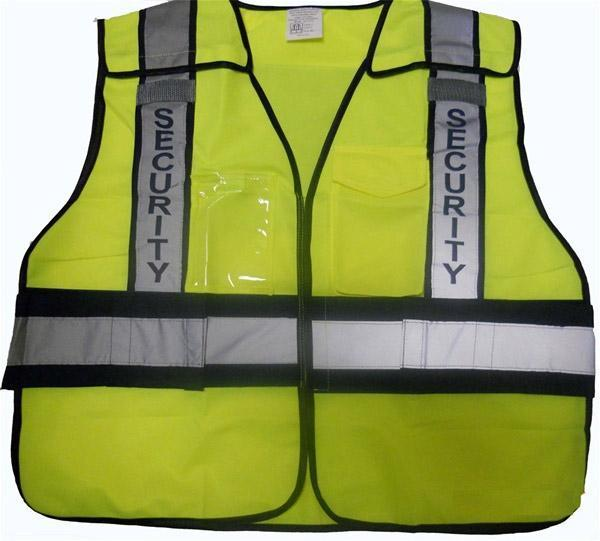vest: (0, 0, 593, 535)
